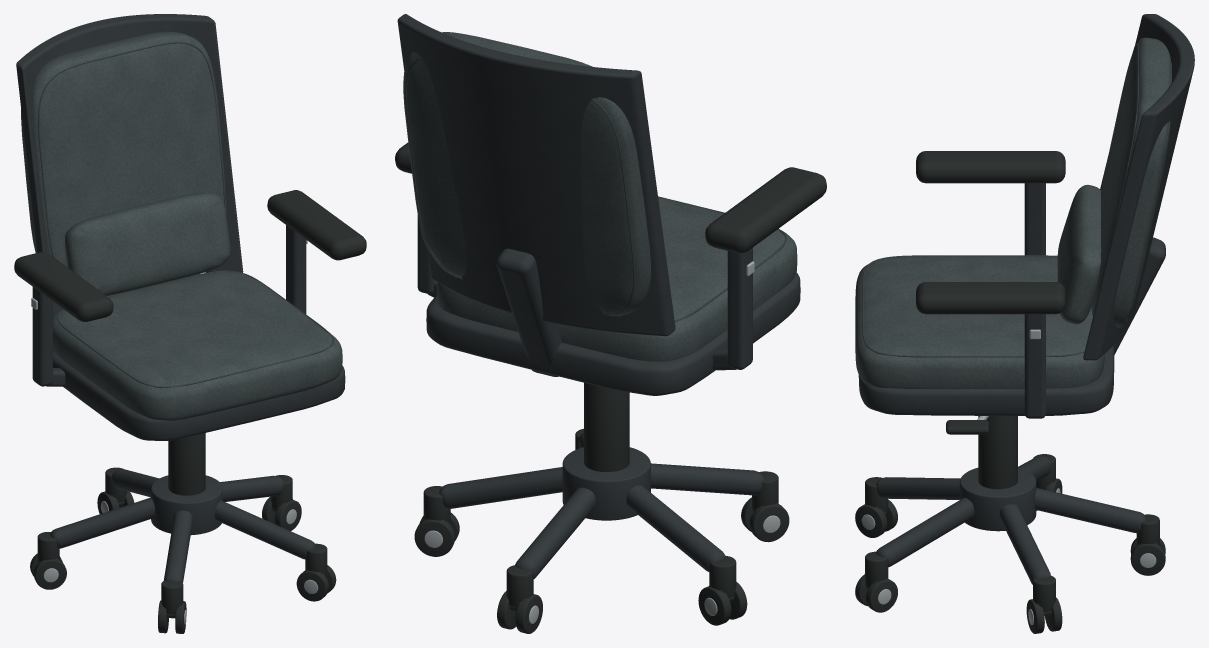
The picture shows the model from 3 angles, left to right: view 1: azimuth 30°, elevation 25°; view 2: azimuth 150°, elevation 25°; view 3: azimuth 270°, elevation 25°; orthographic projection. The views are drawn at different scales.
Visible parts, largest first — view 1: Back | contoured upholstered pad, Seat | waterfall upholstered pad, Back | lumbar support, Back | curved ergonomic shell, Seat | molded shell, Arm | padded top.001, Arm | padded top, Base | cast central hub, Base | tapered radial spoke.001, Lift | telescoping outer cover, Base | tapered radial spoke.003, Arm | height-adjustable post (+12 smaller); view 2: Back | curved ergonomic shell, Back | contoured upholstered pad, Seat | waterfall upholstered pad, Seat | molded shell, Arm | padded top, Back | central support, Base | cast central hub, Lift | telescoping outer cover, Base | tapered radial spoke.004, Arm | height-adjustable post, Base | tapered radial spoke.001, Base | tapered radial spoke.002 (+11 smaller); view 3: Seat | waterfall upholstered pad, Back | contoured upholstered pad, Back | curved ergonomic shell, Seat | molded shell, Arm | padded top, Arm | padded top.001, Back | lumbar support, Base | cast central hub, Lift | telescoping outer cover, Base | tapered radial spoke, Base | tapered radial spoke.003, Arm | height-adjustable post.001 (+14 smaller).
Part boxes in pixels (bbox=[...]): Back | contoured upholstered pad: bbox=[21, 31, 226, 266]; Seat | waterfall upholstered pad: bbox=[53, 271, 342, 420]; Back | lumbar support: bbox=[64, 192, 230, 295]; Back | curved ergonomic shell: bbox=[16, 14, 243, 318]; Seat | molded shell: bbox=[53, 352, 345, 440]; Arm | padded top.001: bbox=[267, 190, 366, 260]; Arm | padded top: bbox=[14, 252, 113, 321]; Base | cast central hub: bbox=[151, 475, 222, 535]; Base | tapered radial spoke.001: bbox=[50, 497, 154, 548]; Lift | telescoping outer cover: bbox=[168, 433, 205, 495]; Base | tapered radial spoke.003: bbox=[215, 500, 315, 559]; Arm | height-adjustable post: bbox=[32, 287, 52, 386]; Back | curved ergonomic shell: bbox=[397, 14, 675, 336]; Back | contoured upholstered pad: bbox=[403, 32, 650, 316]; Seat | waterfall upholstered pad: bbox=[437, 197, 797, 361]; Seat | molded shell: bbox=[426, 272, 800, 395]; Arm | padded top: bbox=[705, 167, 826, 253]; Back | central support: bbox=[496, 248, 561, 376]; Base | cast central hub: bbox=[562, 447, 650, 520]; Lift | telescoping outer cover: bbox=[584, 382, 629, 471]; Base | tapered radial spoke.004: bbox=[439, 467, 562, 508]; Arm | height-adjustable post: bbox=[727, 247, 752, 369]; Base | tapered radial spoke.001: bbox=[626, 485, 725, 571]; Base | tapered radial spoke.002: bbox=[651, 463, 764, 495]; Seat | waterfall upholstered pad: bbox=[855, 255, 1104, 388]; Back | contoured upholstered pad: bbox=[1092, 37, 1171, 327]; Back | curved ergonomic shell: bbox=[1083, 14, 1194, 360]; Seat | molded shell: bbox=[858, 346, 1114, 415]; Arm | padded top: bbox=[916, 151, 1065, 183]; Arm | padded top.001: bbox=[916, 282, 1065, 314]; Back | lumbar support: bbox=[1057, 184, 1101, 324]; Base | cast central hub: bbox=[959, 467, 1036, 531]; Lift | telescoping outer cover: bbox=[978, 416, 1017, 489]; Base | tapered radial spoke: bbox=[1035, 488, 1145, 533]; Base | tapered radial spoke.003: bbox=[876, 497, 974, 567]; Arm | height-adjustable post.001: bbox=[1024, 314, 1045, 418].
Bounding box in the file's own units: 0.731 × 1.17 × 0.7015.
Materials: 5 (2 with a texture image).
